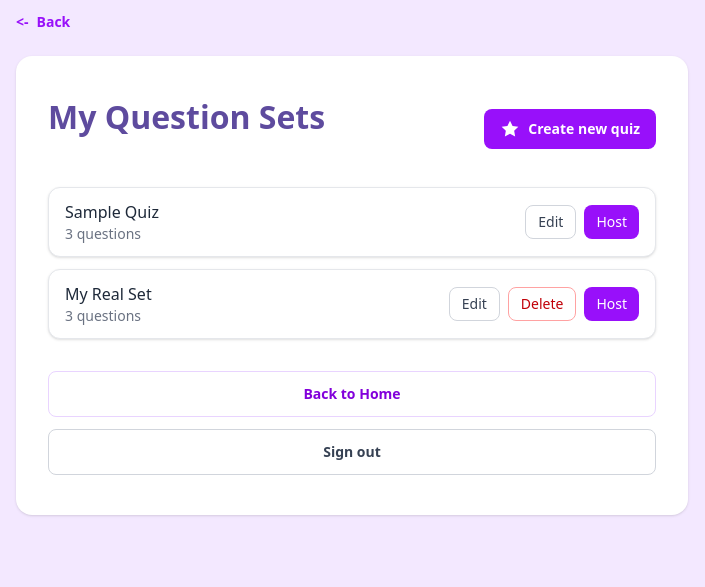
HostDashboard › shows error and keeps set in list when delete fails
Check: the text "My Real Set" is shown, box [65,283,152,305]
Click the button "Delete": [542, 304] box [508,287,576,321]
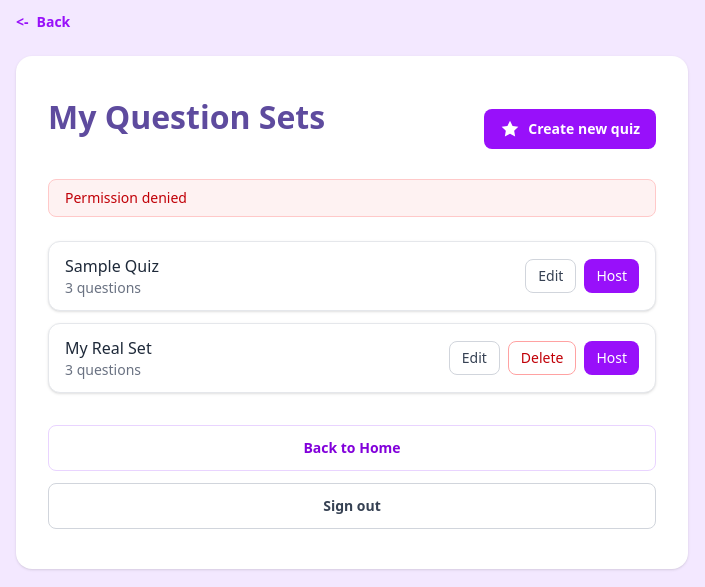
Check: the text "My Real Set" is shown, box [65,337,152,359]
Check: the text "Permission denied" is shown, box [48,179,656,217]
